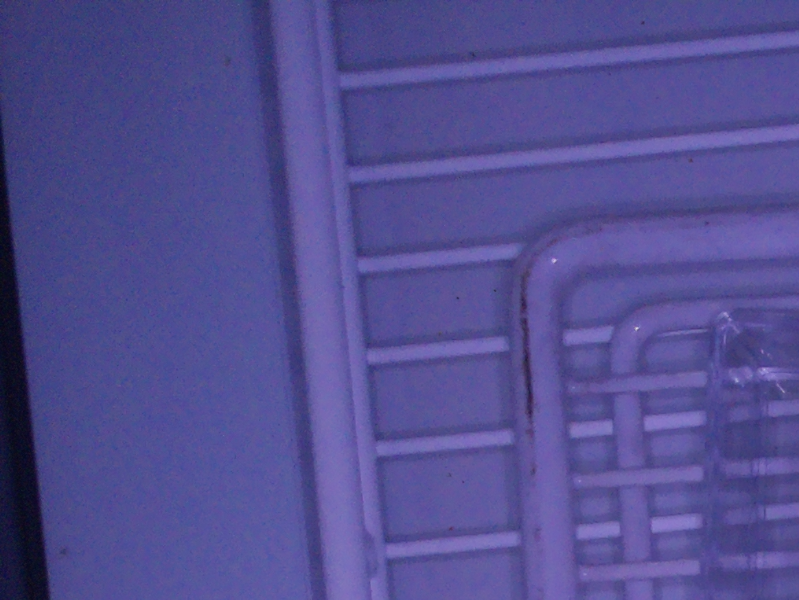plate: (702, 306, 799, 600)
